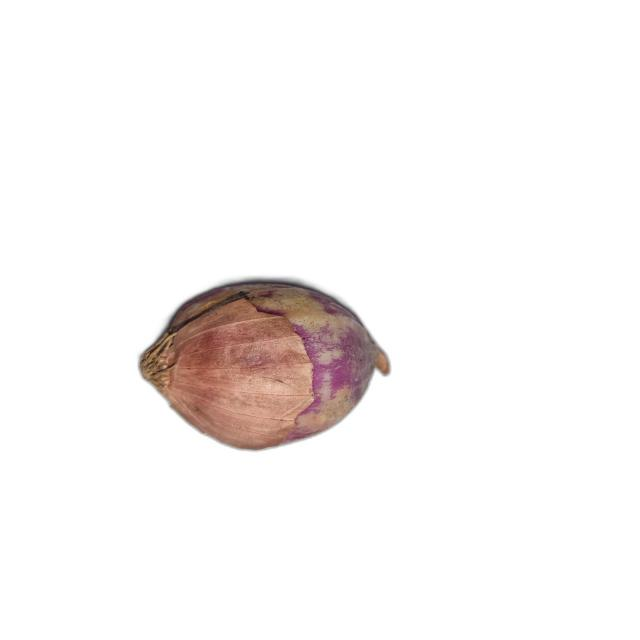onion: (140, 282, 390, 450)
